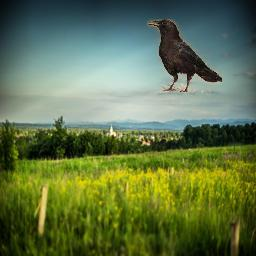Crow: (148, 20, 223, 93)
